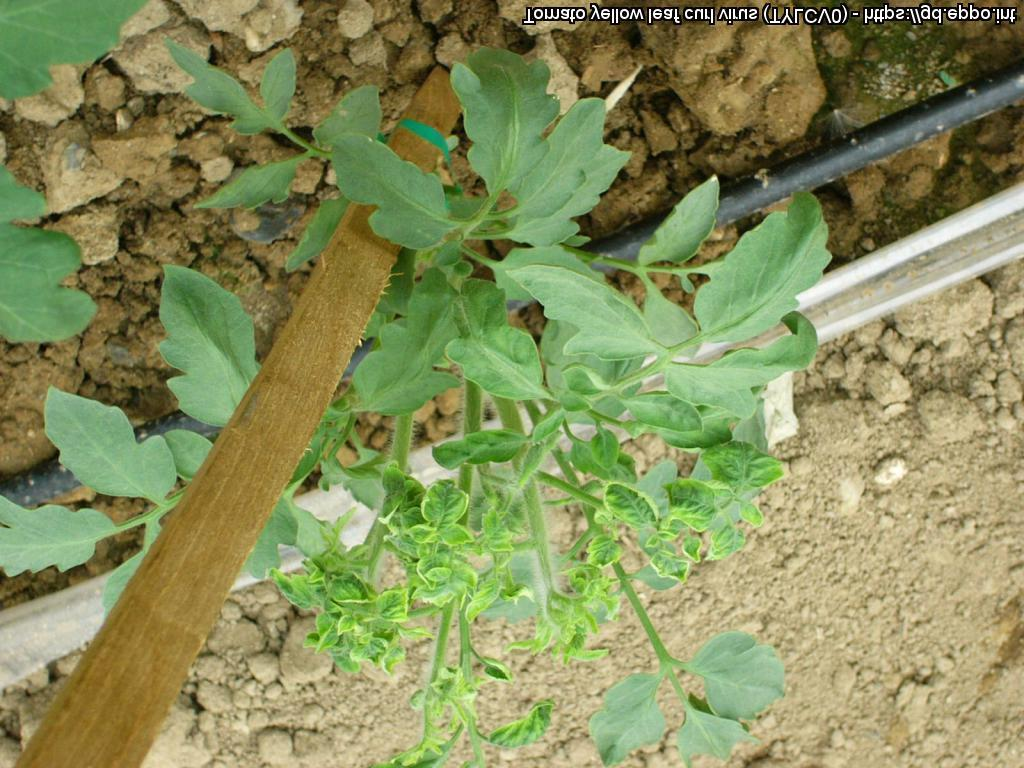Tomato leaf: (695, 181, 826, 346), (522, 270, 691, 383), (344, 280, 466, 427), (447, 44, 560, 201), (151, 269, 253, 431), (41, 385, 165, 510), (328, 128, 452, 251), (507, 98, 621, 221), (6, 487, 126, 592), (588, 654, 682, 767), (686, 626, 788, 722), (635, 178, 723, 272), (193, 155, 313, 219), (616, 387, 704, 437)
